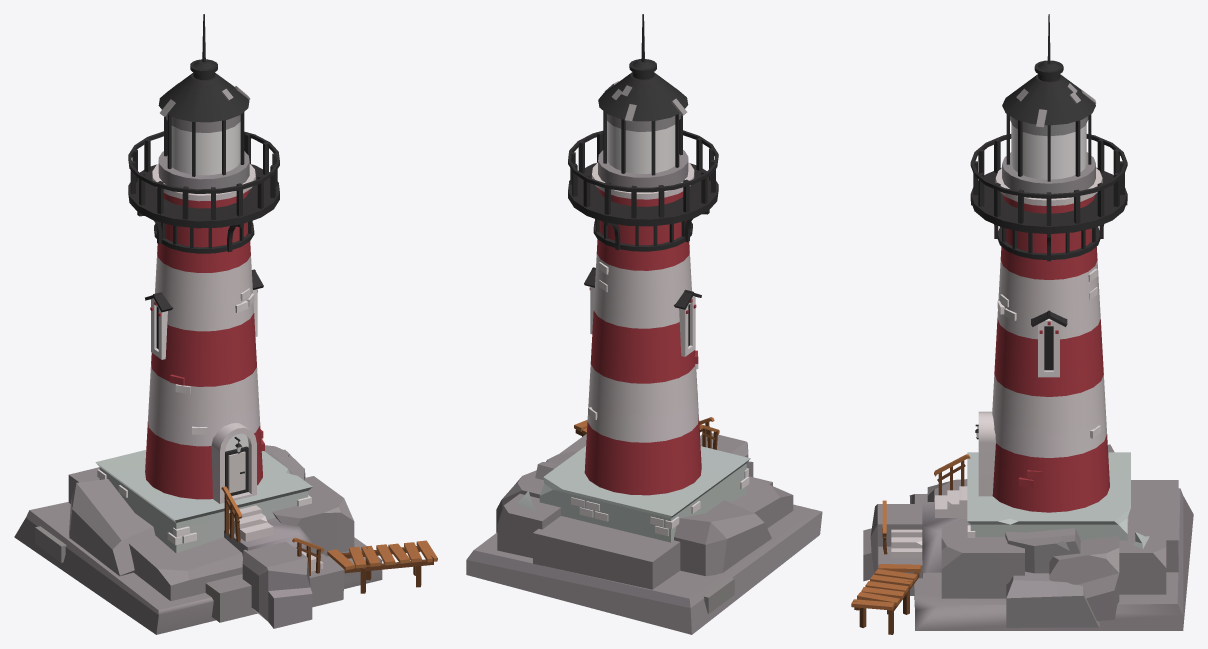
Rendered from lighthouse-transformed.glb.
The picture shows the model from 3 angles, left to right: view 1: azimuth 30°, elevation 25°; view 2: azimuth 150°, elevation 25°; view 3: azimuth 270°, elevation 25°; orthographic projection. The views are drawn at different scales.
Parts seen in each view (by area): view 1: Lighthouse1; view 2: Lighthouse1; view 3: Lighthouse1.
Boxes of the visible parts, x1=… form: Lighthouse1: x1=14, y1=14, x2=437, y2=634; Lighthouse1: x1=466, y1=14, x2=822, y2=634; Lighthouse1: x1=851, y1=14, x2=1193, y2=634.
Size of the model in its own units: 10.05 by 19.7 by 10.92.
Materials: 1 (1 with a texture image).
